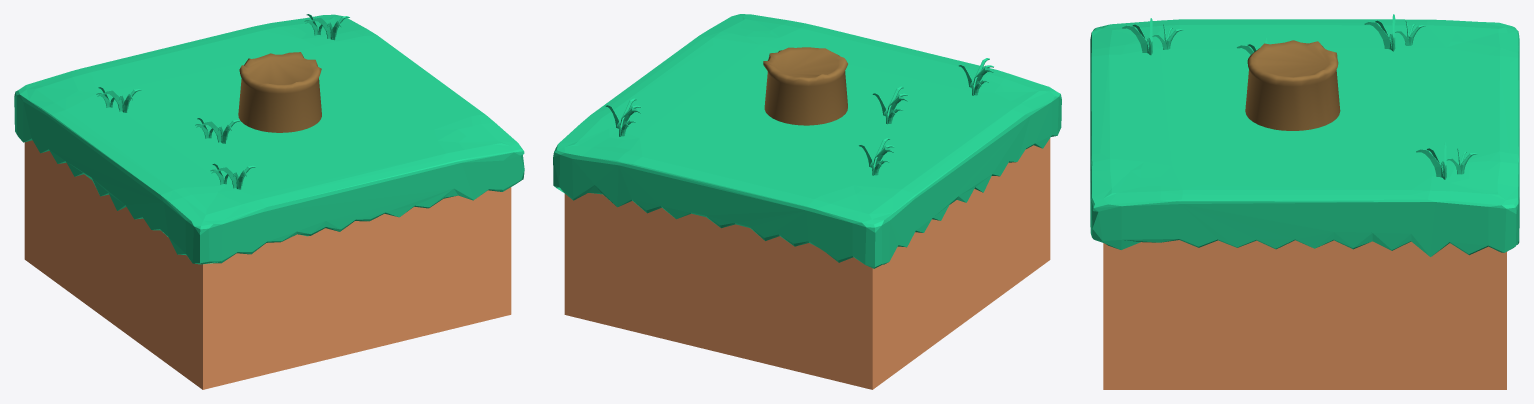
The model's file is treestump.fbx.
The picture shows the model from 3 angles, left to right: view 1: azimuth 30°, elevation 25°; view 2: azimuth 150°, elevation 25°; view 3: azimuth 270°, elevation 25°; orthographic projection. The views are drawn at different scales.
Visible parts, largest first — view 1: Cube.020, Cube.019, Cylinder, Plane.007, Plane.008, Plane.010, Plane.009; view 2: Cube.020, Cube.019, Cylinder, Plane.007, Plane.009, Plane.010, Plane.008; view 3: Cube.020, Cube.019, Cylinder, Plane.007, Plane.010, Plane.008.
Part boxes in pixels (left/top/right/bottom): Cube.020: left=14, top=14, right=524, bottom=264; Cube.019: left=24, top=140, right=511, bottom=389; Cylinder: left=238, top=52, right=321, bottom=132; Plane.007: left=304, top=14, right=349, bottom=40; Plane.008: left=210, top=163, right=255, bottom=189; Plane.010: left=96, top=87, right=141, bottom=112; Plane.009: left=195, top=118, right=240, bottom=143; Cube.020: left=553, top=14, right=1061, bottom=268; Cube.019: left=564, top=138, right=1050, bottom=389; Cylinder: left=763, top=47, right=847, bottom=125; Plane.007: left=605, top=98, right=641, bottom=136; Plane.009: left=872, top=86, right=908, bottom=124; Plane.010: left=859, top=138, right=894, bottom=175; Plane.008: left=958, top=58, right=993, bottom=95; Cube.020: left=1090, top=19, right=1519, bottom=256; Cube.019: left=1103, top=240, right=1506, bottom=389; Cylinder: left=1245, top=40, right=1340, bottom=130; Plane.007: left=1416, top=141, right=1477, bottom=179; Plane.010: left=1364, top=14, right=1425, bottom=51; Plane.008: left=1122, top=18, right=1183, bottom=55.
Size of the model in its own units: 426 by 276 by 426.
